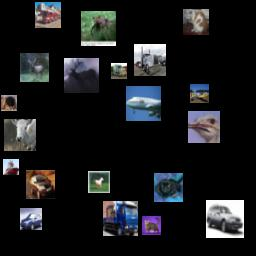airplane: (126, 86, 161, 121), (190, 84, 209, 103)
automobile: (206, 200, 244, 238), (26, 170, 55, 199), (20, 208, 42, 230)
bird: (188, 111, 220, 143)
cat: (81, 11, 116, 46), (183, 9, 209, 35), (142, 216, 161, 235)
deer: (64, 58, 99, 93), (4, 119, 36, 151), (20, 53, 49, 82)
dog: (154, 173, 183, 202), (1, 95, 17, 111)
ship: (3, 159, 19, 175)
truck: (103, 201, 138, 236), (134, 44, 166, 76), (35, 2, 61, 28), (111, 63, 127, 79)
